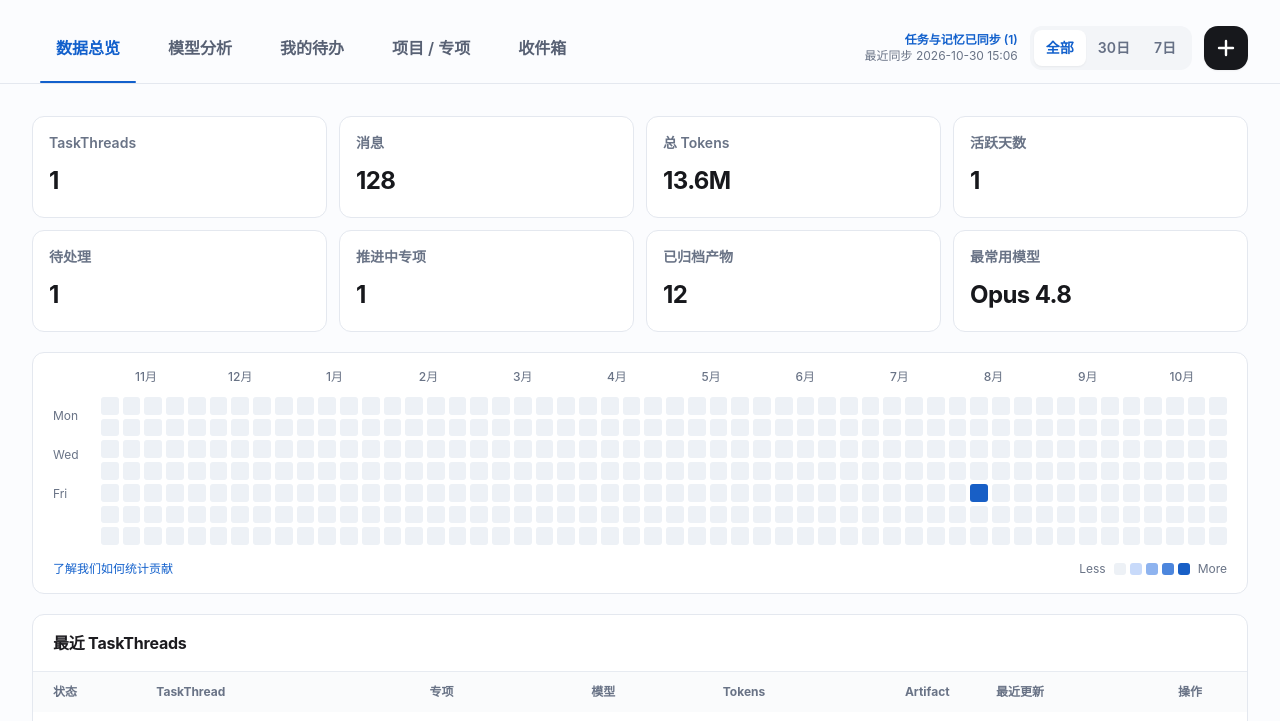
AiWorkspaceOverview › renders server-backed overview and switches to model analysis
The image size is (1280, 721).
Expected: the heading "最近 TaskThreads" is shown, 53,633 -> 187,653
Click the tab "模型分析".
click(200, 48)  # box 144,12 -> 256,83
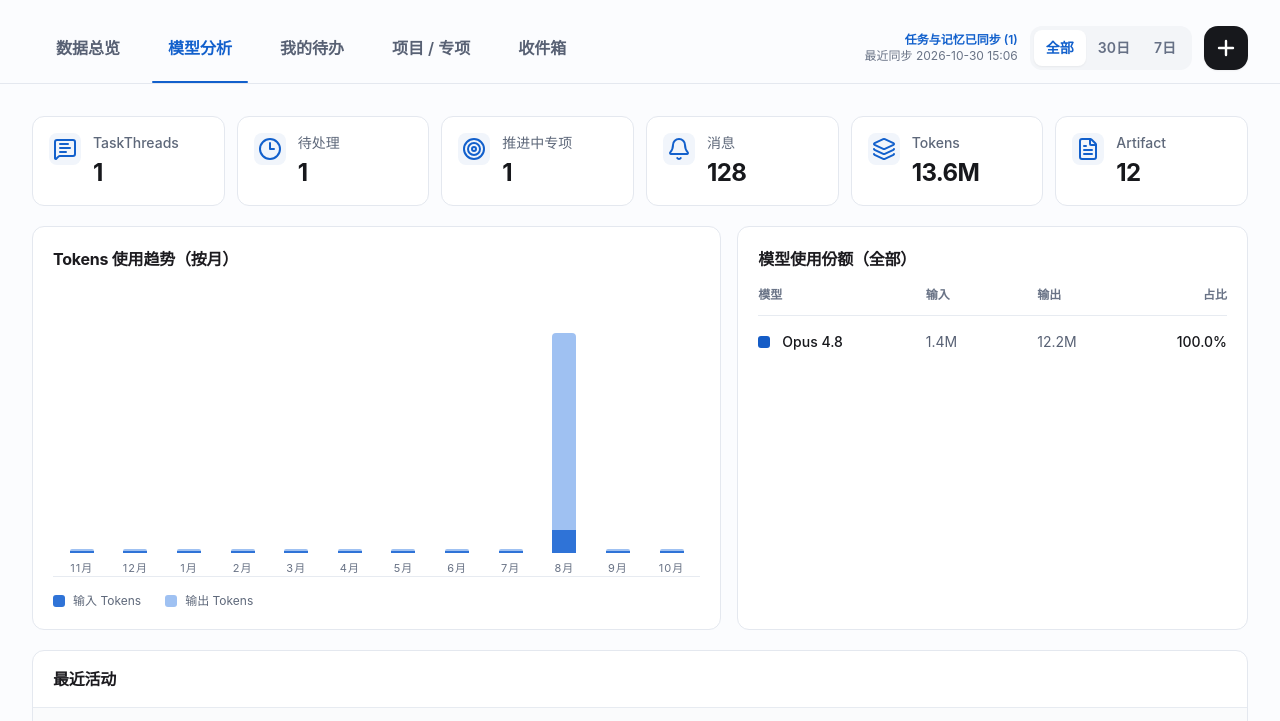
Now the heading "Tokens 使用趋势（按月）" is shown, box 53,249 -> 238,269
Now the heading "模型使用份额（全部）" is shown, box 758,249 -> 916,269
